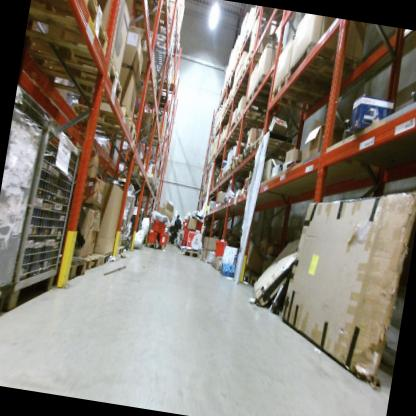pallet: (23, 0, 178, 96), (19, 38, 131, 103), (291, 40, 370, 94), (267, 73, 340, 122), (243, 72, 293, 122), (62, 94, 133, 129), (74, 107, 141, 144), (248, 132, 299, 169), (59, 251, 92, 288), (81, 245, 114, 279), (129, 0, 174, 24), (234, 105, 268, 132), (241, 143, 276, 169), (233, 154, 265, 172), (137, 126, 163, 148), (244, 50, 262, 73), (227, 123, 248, 141), (232, 81, 253, 99), (239, 65, 257, 85), (145, 240, 168, 252), (180, 246, 203, 257), (151, 97, 169, 110), (108, 246, 124, 260), (250, 275, 265, 289), (241, 267, 252, 285), (227, 163, 234, 179), (221, 169, 229, 181), (229, 157, 236, 168)
small_load_carrier: (212, 235, 231, 259), (146, 218, 168, 236), (144, 224, 159, 243), (157, 229, 172, 248), (181, 225, 191, 241), (193, 218, 204, 229), (179, 237, 190, 248), (179, 218, 189, 230)
stillage: (0, 118, 91, 327), (122, 202, 147, 247)
